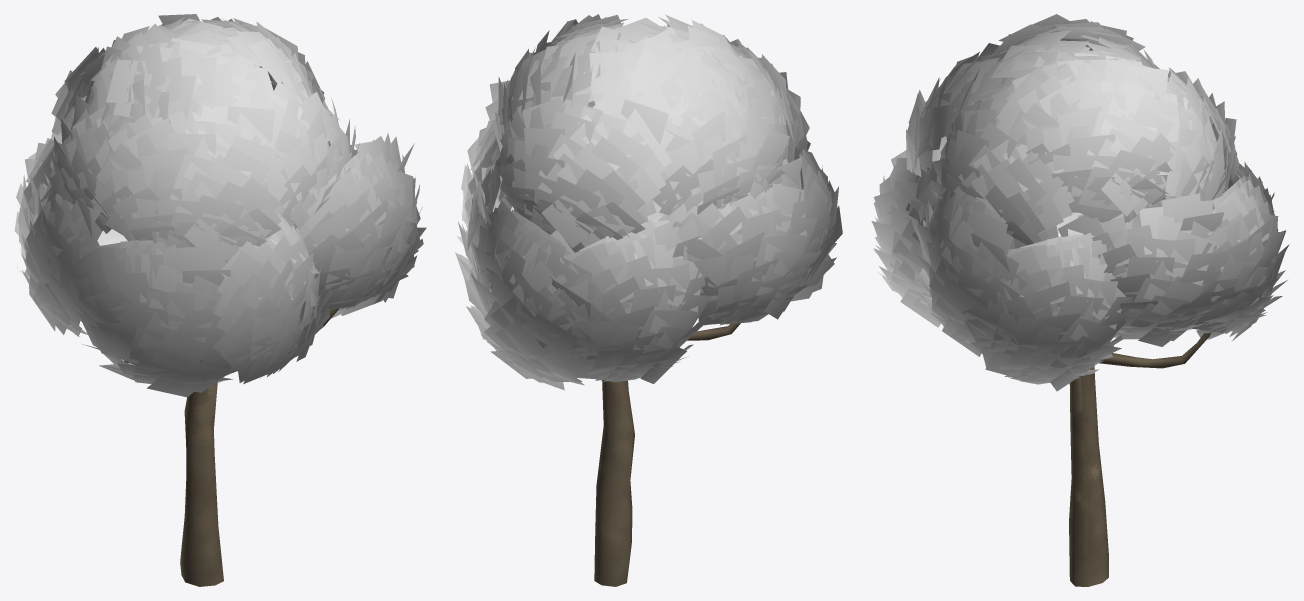
File: Standar Tree Medium_LOD_1.fbx
3 renders of one model, left to right at view 1: azimuth 30°, elevation 25°; view 2: azimuth 150°, elevation 25°; view 3: azimuth 270°, elevation 25°, orthographic. The views are drawn at different scales.
Parts seen in each view (by area): view 1: Top_Tree_Medium_LOD_1, Standar_Trunk_Medium_LOD_1; view 2: Top_Tree_Medium_LOD_1, Standar_Trunk_Medium_LOD_1; view 3: Top_Tree_Medium_LOD_1, Standar_Trunk_Medium_LOD_1.
Part boxes in pixels (x1=…): Top_Tree_Medium_LOD_1: x1=14, y1=14, x2=426, y2=397; Standar_Trunk_Medium_LOD_1: x1=124, y1=308, x2=339, y2=586; Top_Tree_Medium_LOD_1: x1=455, y1=14, x2=842, y2=390; Standar_Trunk_Medium_LOD_1: x1=594, y1=323, x2=740, y2=586; Top_Tree_Medium_LOD_1: x1=871, y1=14, x2=1289, y2=391; Standar_Trunk_Medium_LOD_1: x1=1069, y1=332, x2=1210, y2=586.
Size of the model in its own units: 1562 by 2344 by 1653.
